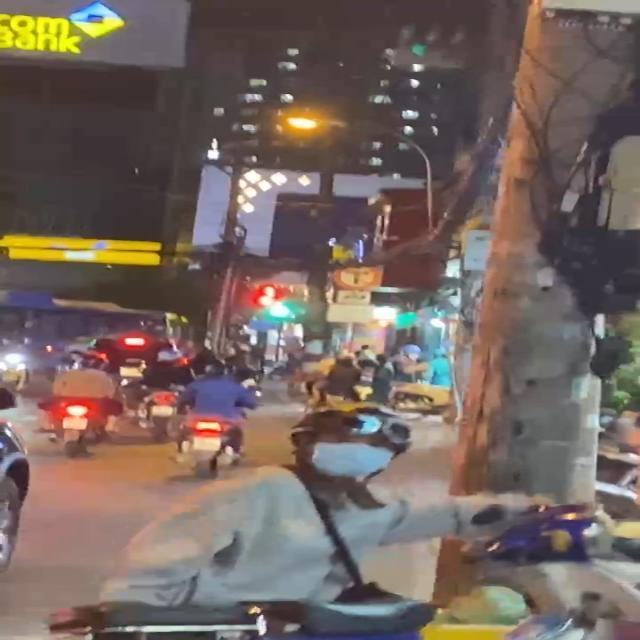137-cam-re-trai-va-re-phai: (332, 262, 380, 290)
